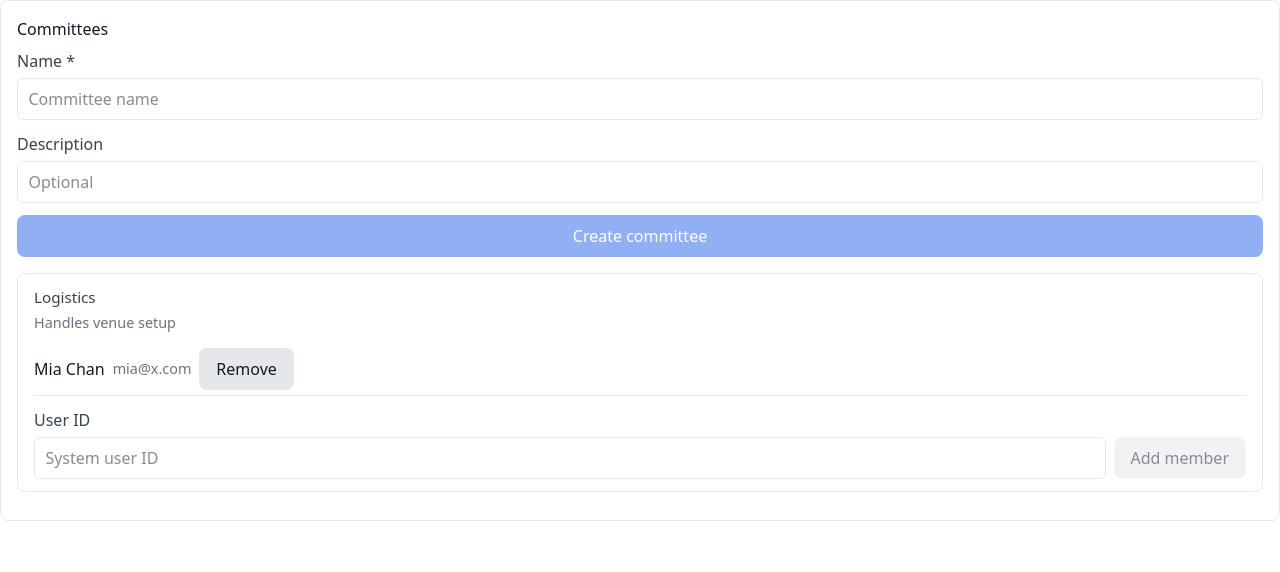
Test case: CommitteesSection › removes a member and refreshes
This screenshot has width=1280, height=572.
Expected: the list item with test id "member-m1" is shown, [34,342,1246,396]
Click the button with test id "member-remove-c1-u5" at (247, 369), box [199,348,294,390]
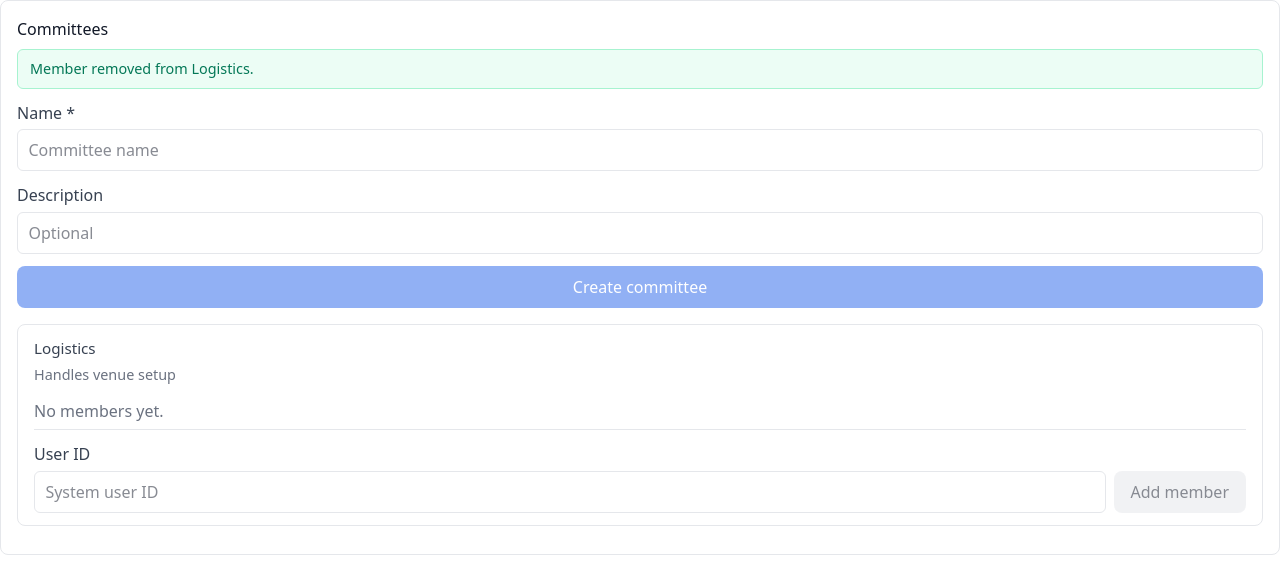
Result: the message with test id "committees-notice" shows "removed" at [30,59,254,78]
Result: the list item with test id "committee-members-empty" is shown at [34,394,1246,430]
